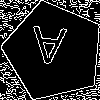A: (28, 26, 67, 74)
